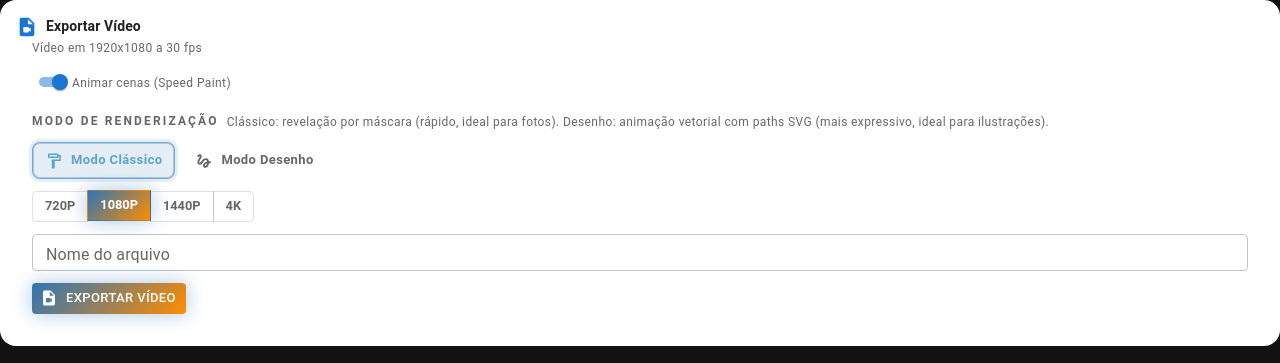
Test: VideoExportPanel › nome do arquivo › sanitiza caracteres especiais no nome do arquivo
The image size is (1280, 363).
Type "meu video@#$%" into the field named "Nome do arquivo de exportação" at (640, 252), box x1=32 y1=234 x2=1248 y2=271
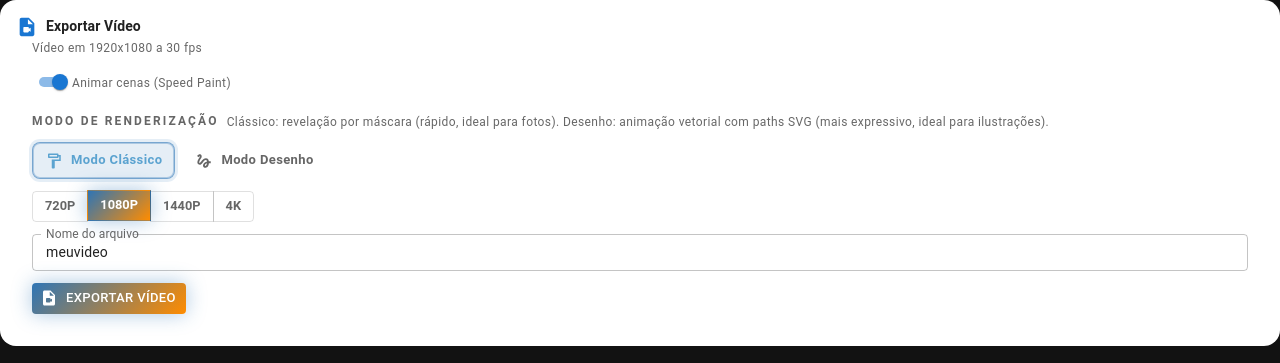
Expected: the field named "Nome do arquivo de exportação" holds "meuvideo", x1=32 y1=234 x2=1248 y2=271
